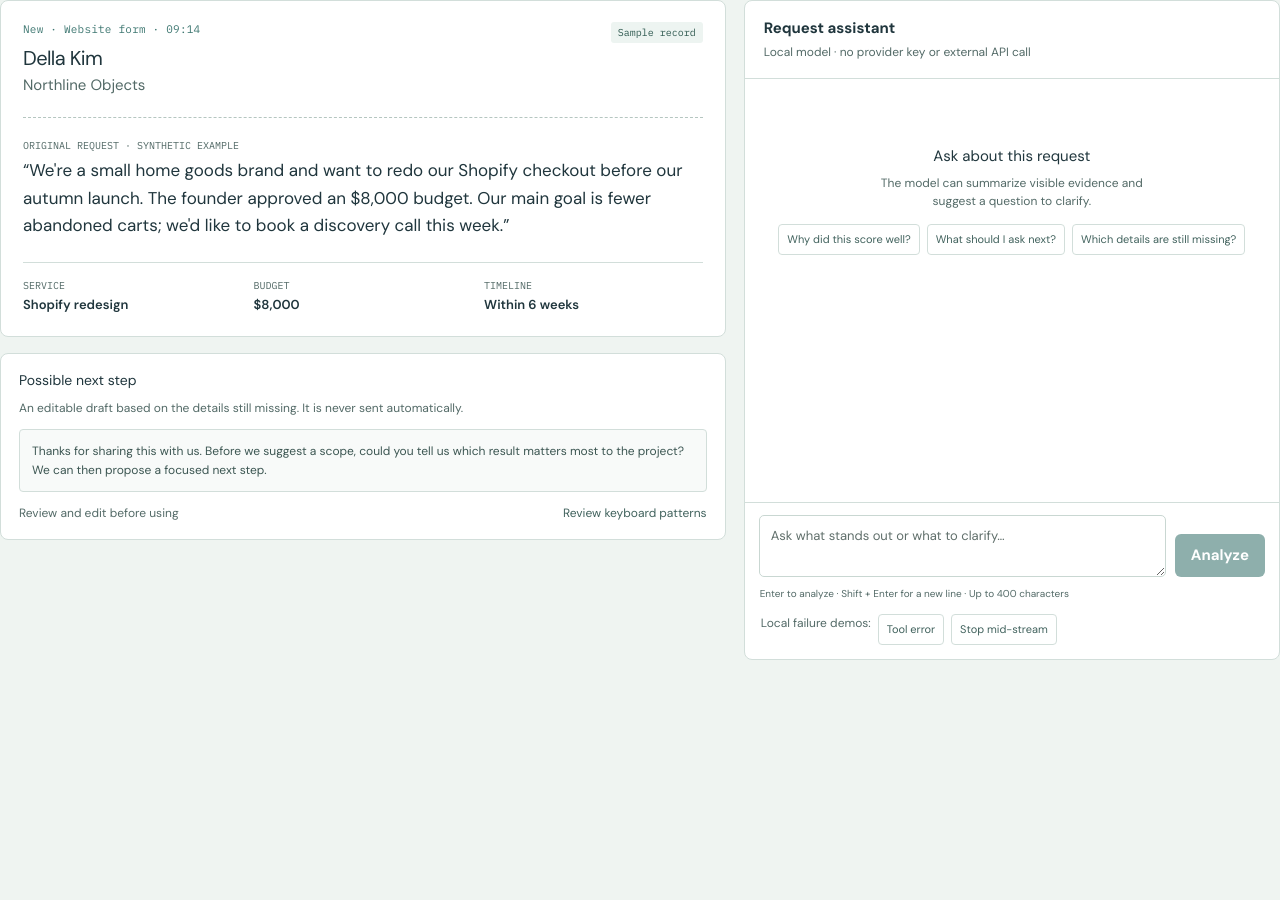
Scenario: lead workspace recovery › keeps partial streamed text and restores the question after an interruption
In the text box named "Ask about this lead": (962,546) [759,515,1166,577], type "Why did this score well?"
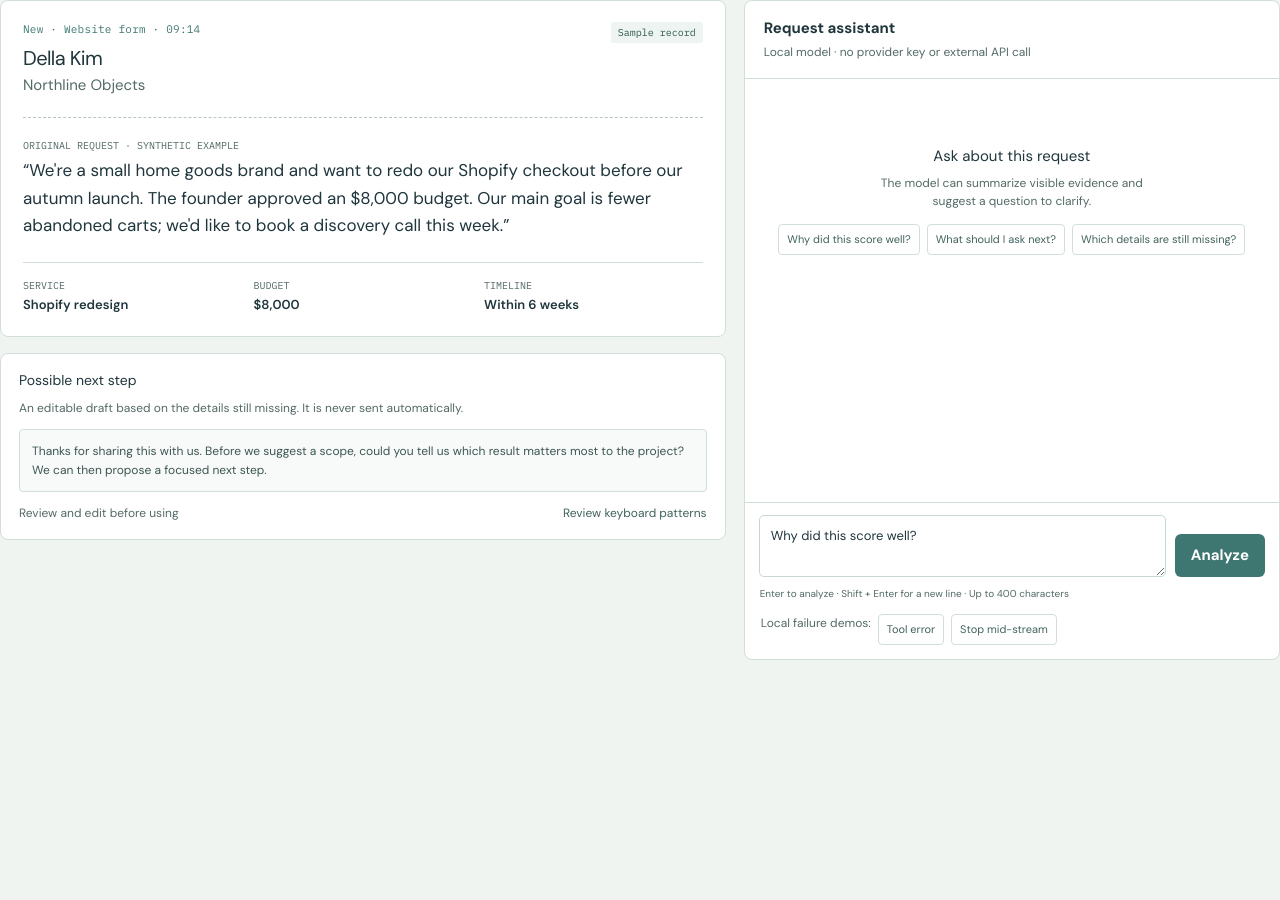
Click the button "Analyze": (1220,556) [1175,534,1265,577]
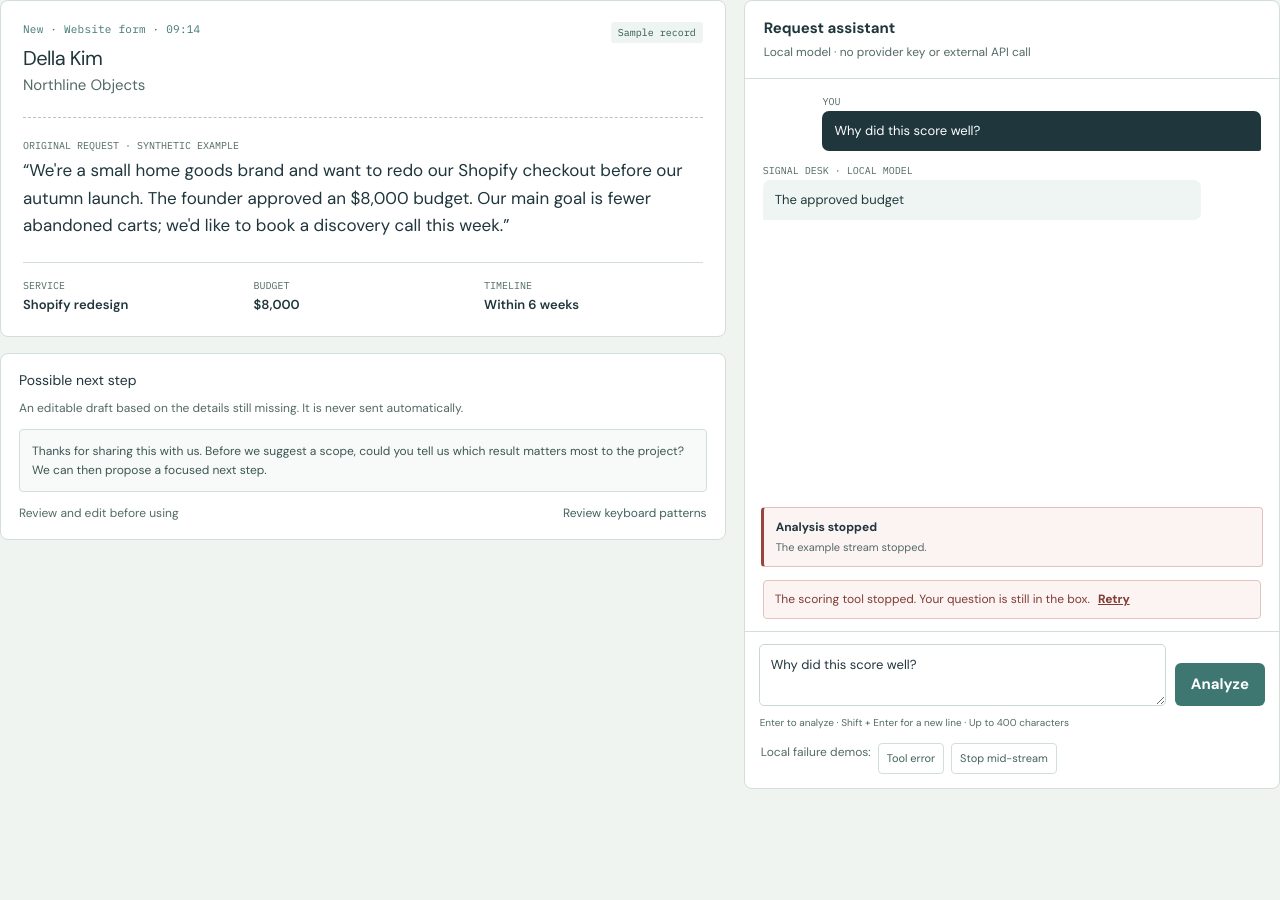
Result: the text "The approved budget" is shown at [763,180,1201,220]
Result: the message shows "Your question is still in the box." at [775,592,1090,608]
Result: the button "Retry" is shown at [1098,590,1130,609]
